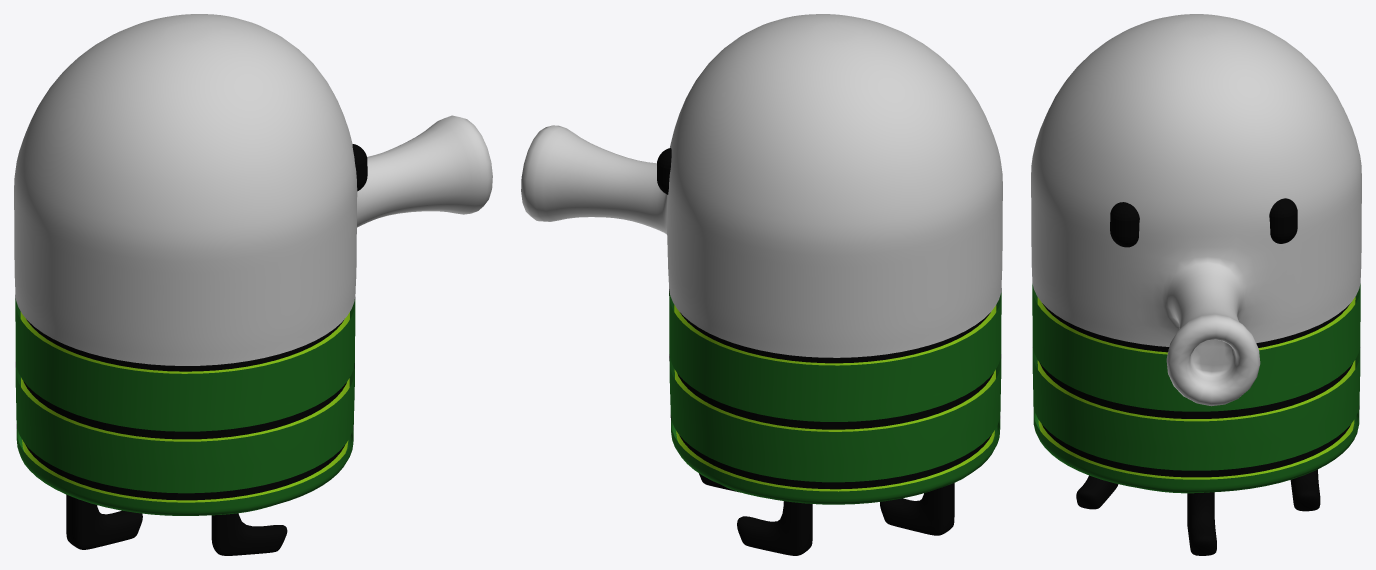
File: doodler.obj
The picture shows the model from 3 angles, left to right: view 1: azimuth 30°, elevation 25°; view 2: azimuth 150°, elevation 25°; view 3: azimuth 270°, elevation 25°; orthographic projection. The views are drawn at different scales.
Visible parts, largest first — view 1: Sphere, Cube.002, Cube.003; view 2: Sphere, Cube.004, Cube.002; view 3: Sphere, Sphere.001, Cube.001, Cube.004, Cube.003.
Part boxes in pixels (x1,y1,x2,y2): Sphere: (14,14,492,515); Cube.002: (66,494,142,549); Cube.003: (211,513,287,555); Sphere: (521,14,1002,504); Cube.004: (737,501,812,555); Cube.002: (880,483,954,535); Sphere: (1031,14,1361,493); Sphere.001: (1110,198,1297,247); Cube.001: (1187,492,1216,555); Cube.004: (1290,469,1320,511); Cube.003: (1076,475,1118,509).
Bounding box in the file's own units: 0.5807 × 0.6115 × 0.3888.
